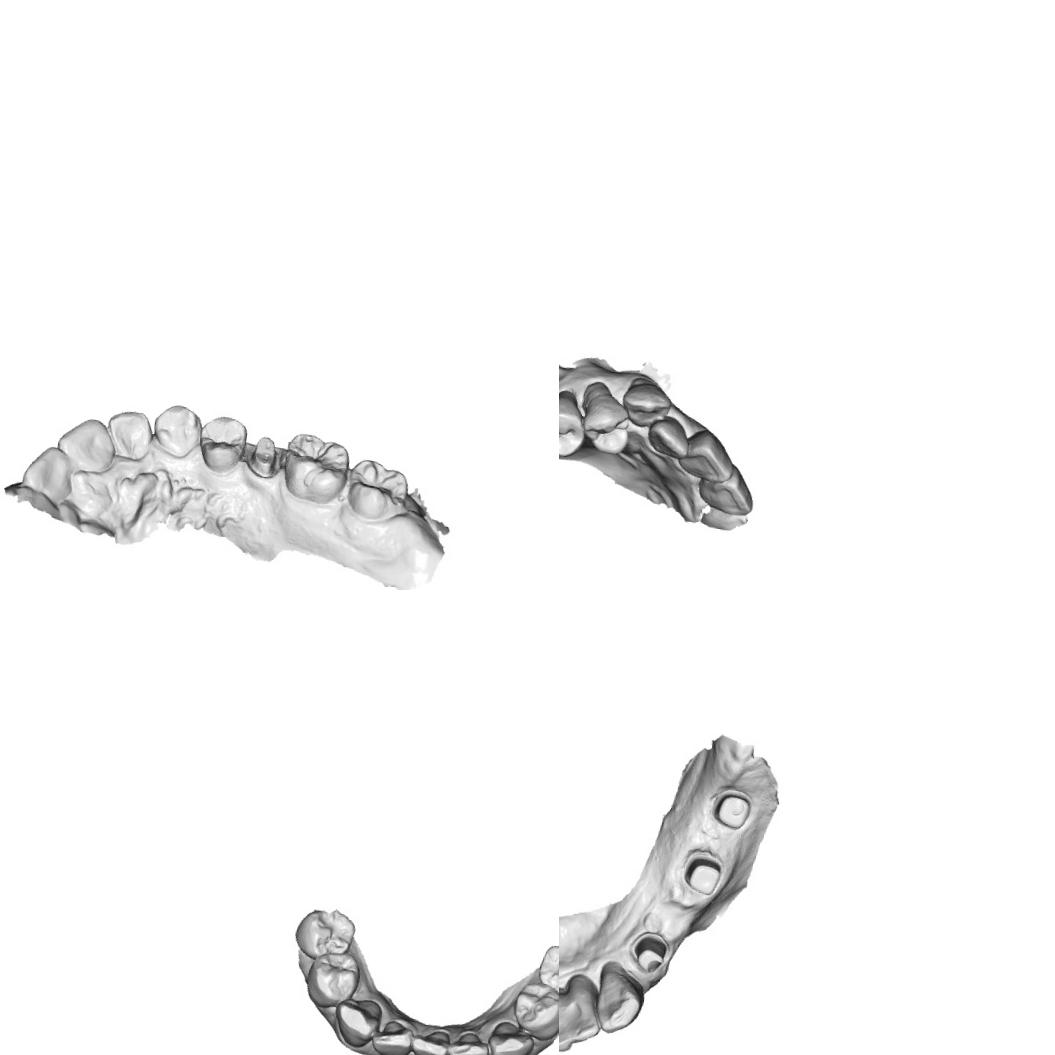abutment: (676, 845, 730, 900), (707, 784, 757, 834), (626, 928, 672, 976)
canine: (591, 958, 650, 1038), (148, 399, 206, 462), (328, 994, 384, 1051), (619, 374, 673, 430), (483, 1017, 537, 1055)
crown: (244, 432, 285, 482)
incisor: (51, 412, 120, 478), (18, 441, 80, 504), (676, 424, 738, 484), (694, 463, 760, 519), (560, 973, 608, 1047), (101, 405, 157, 464), (644, 412, 696, 461), (369, 1016, 415, 1055), (559, 987, 580, 1055), (407, 1024, 453, 1055), (443, 1028, 491, 1055)
molar: (278, 429, 354, 507), (341, 453, 414, 525)
premolar: (290, 904, 360, 966), (577, 390, 636, 458), (303, 946, 363, 1012), (195, 410, 250, 478), (509, 979, 559, 1043), (559, 394, 590, 461), (533, 939, 559, 1004)
